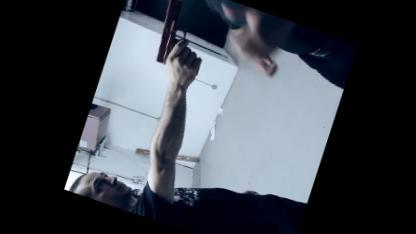pistol: (147, 0, 219, 77)
